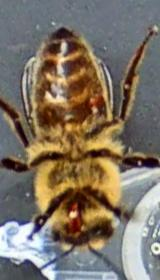varroa_mite: (81, 81, 125, 129)
